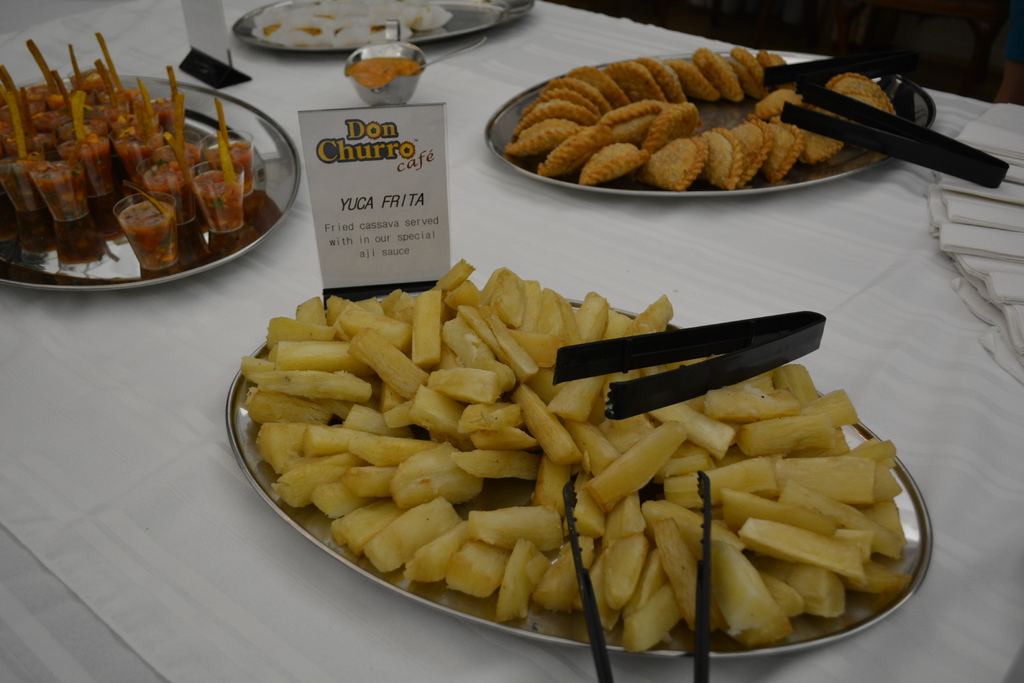French fries: (234, 275, 906, 654)
